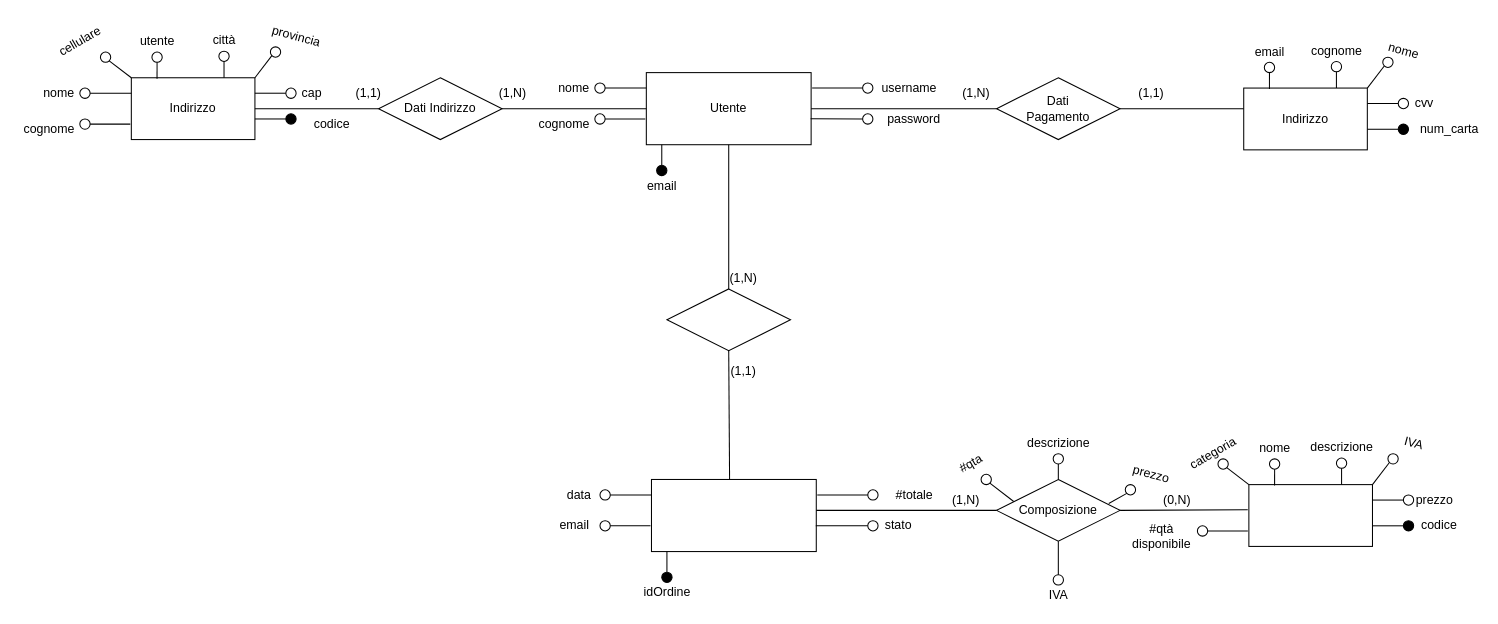
This 1498x624 diagram has some shape labels left out. The shapes that lost their labels are listed below. From the top down, each one's centre as x and y in pixels, then its label:
At point 728,319: "Finalizzazione".
At point 733,515: "Ordine".
At point 1310,515: "Articolo".
